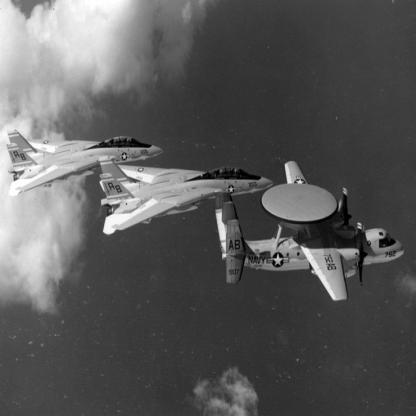E2: (215, 161, 405, 303)
F14: (100, 156, 275, 237), (7, 128, 165, 198)
